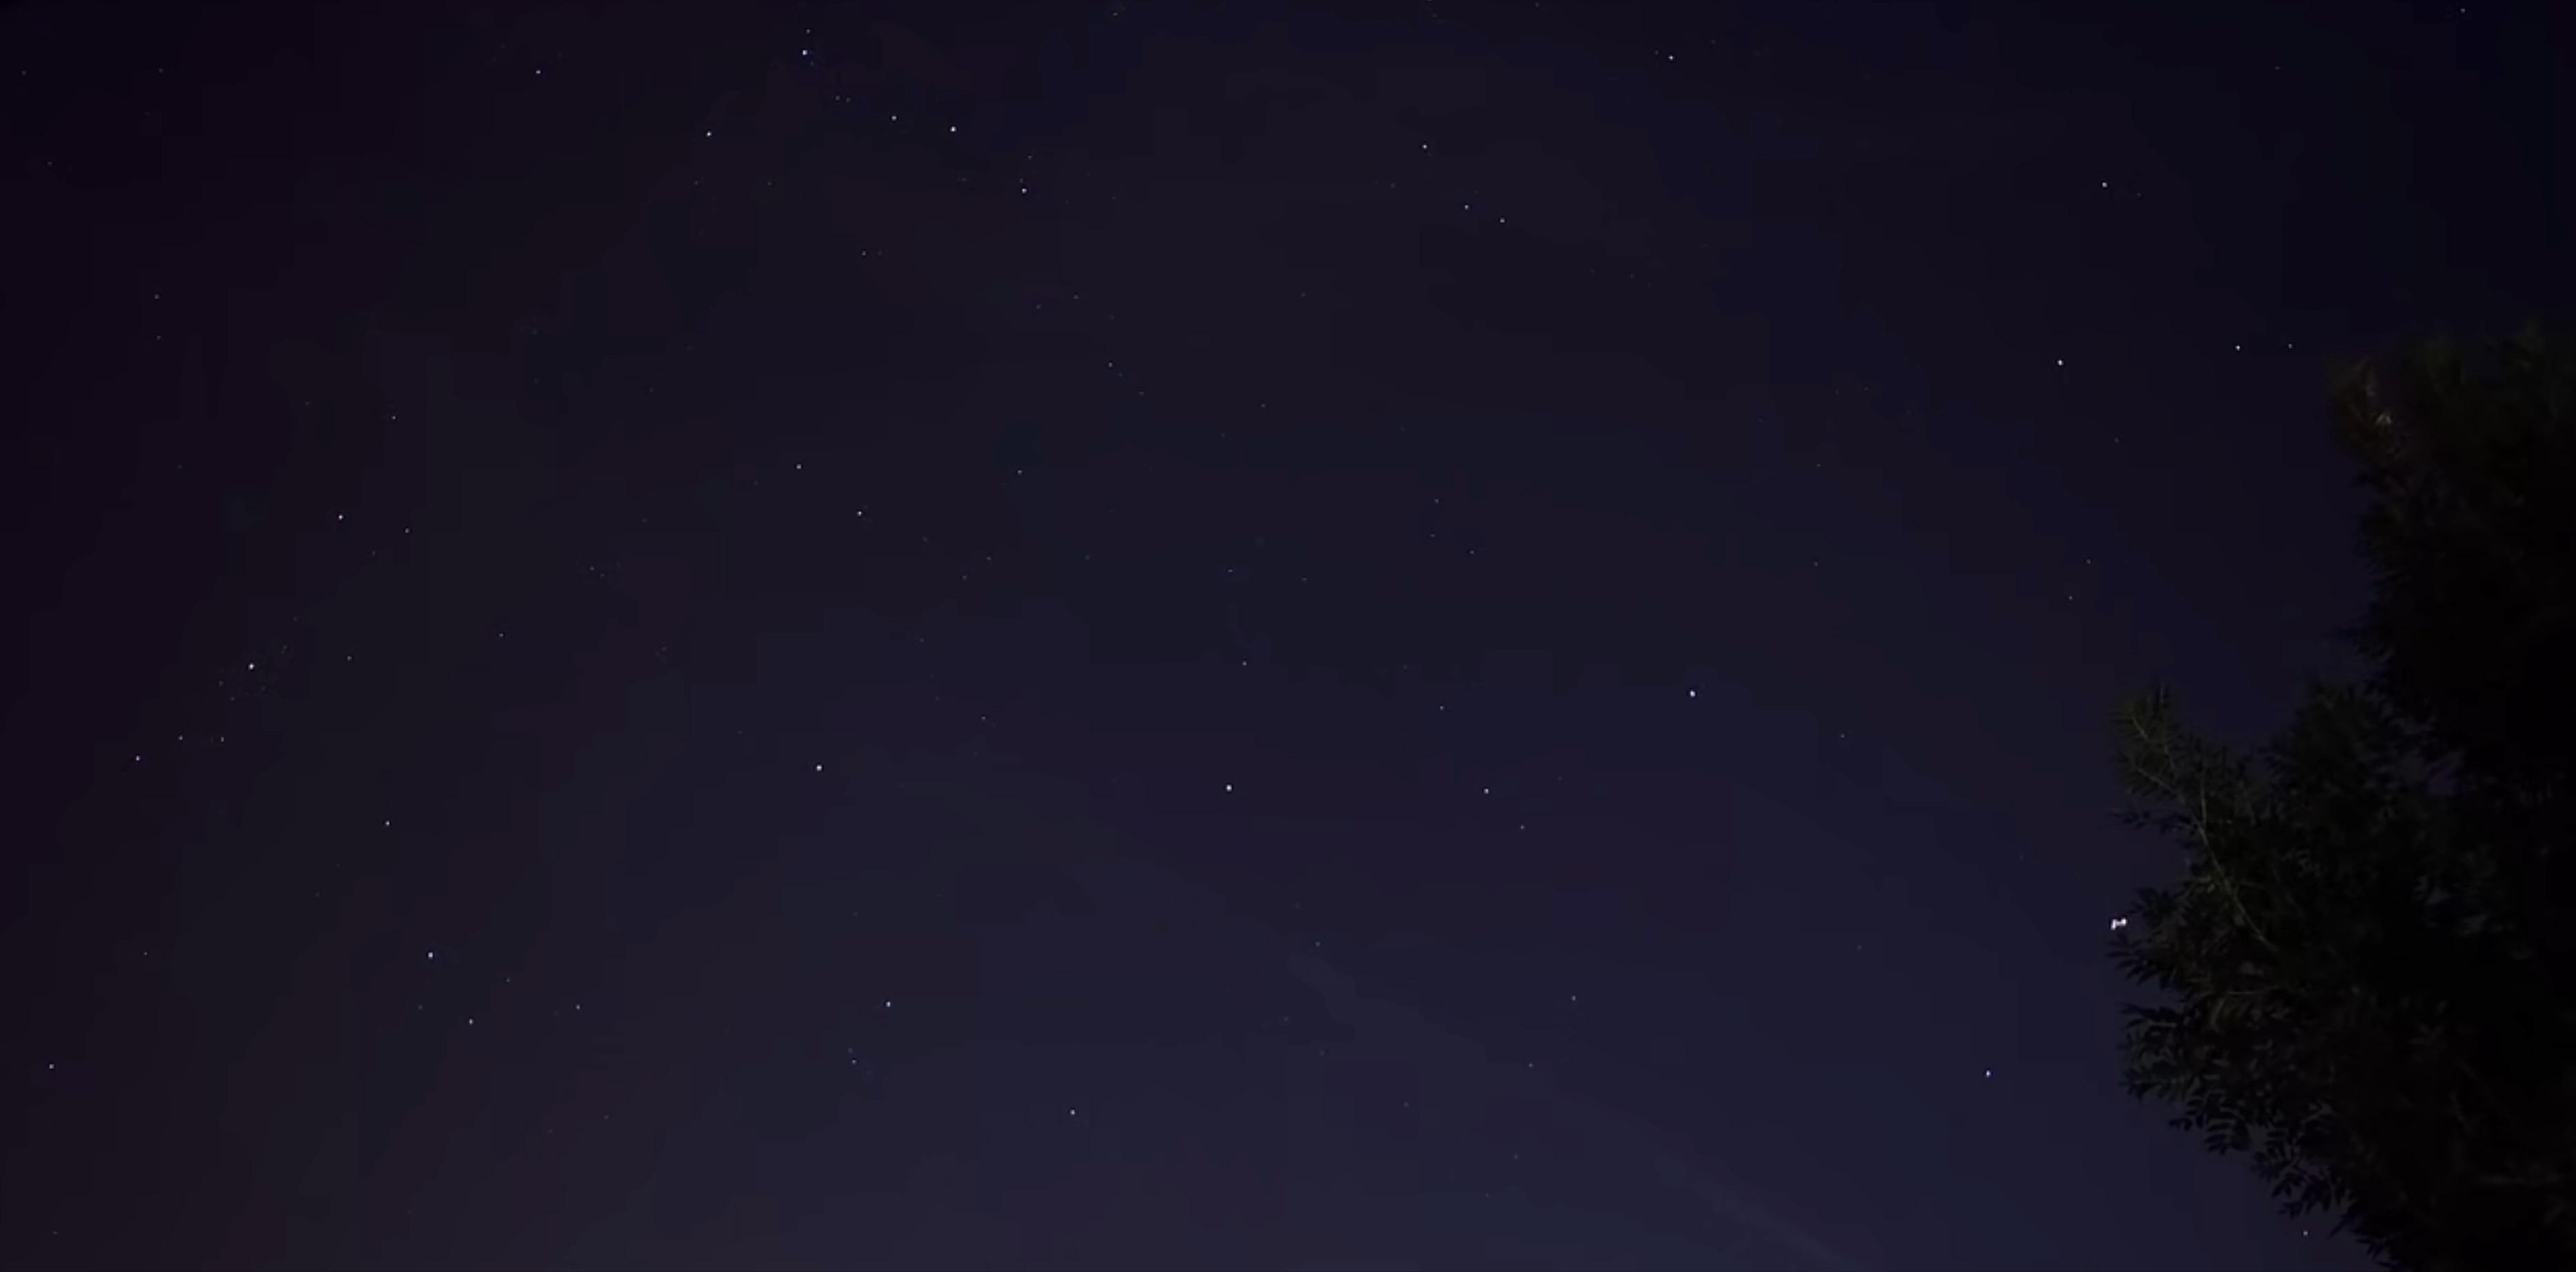Plane: (2098, 901, 2137, 950)
